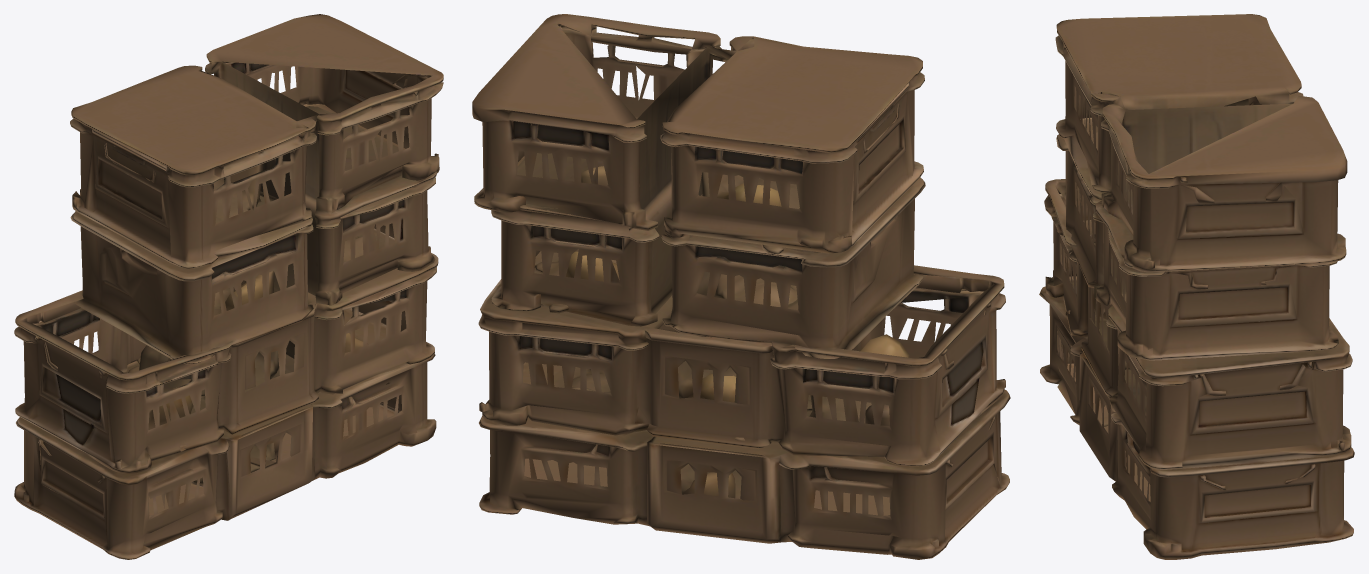
Rendered from gajbe-hrpa.glb.
3 views of the same model, side by side, from view 1: azimuth 30°, elevation 25°; view 2: azimuth 150°, elevation 25°; view 3: azimuth 270°, elevation 25° (orthographic). The views are drawn at different scales.
Parts seen in each view (by area): view 1: tripo_node_f251b7e9-ef37-4956-96b6-0fec5dbc0245; view 2: tripo_node_f251b7e9-ef37-4956-96b6-0fec5dbc0245; view 3: tripo_node_f251b7e9-ef37-4956-96b6-0fec5dbc0245.
Part boxes in pixels (x1,y1,x2,y2): tripo_node_f251b7e9-ef37-4956-96b6-0fec5dbc0245: (14,14,443,559); tripo_node_f251b7e9-ef37-4956-96b6-0fec5dbc0245: (472,14,1010,559); tripo_node_f251b7e9-ef37-4956-96b6-0fec5dbc0245: (1039,14,1354,559).
Bounding box in the file's own units: 0.9995 × 0.9106 × 0.6714.
1 material, 1 textured.
